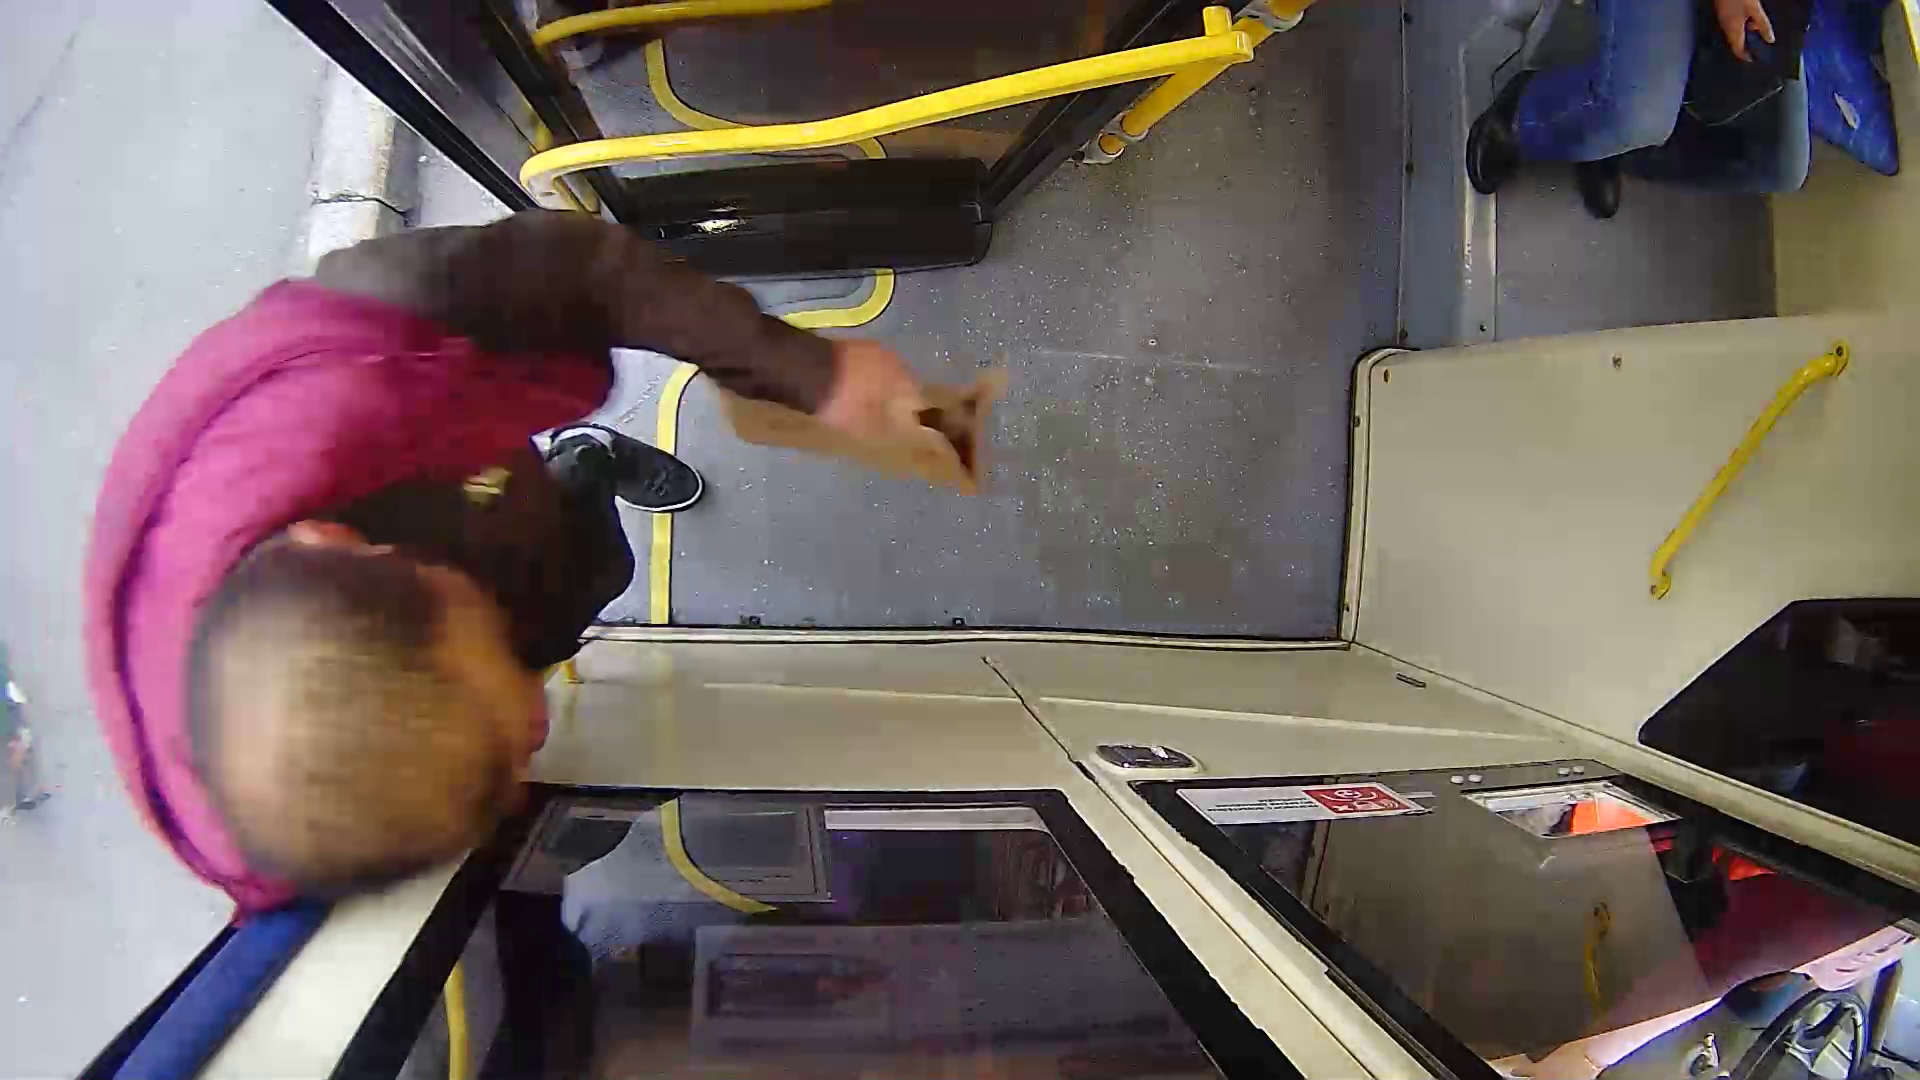person: (84, 238, 1039, 869)
